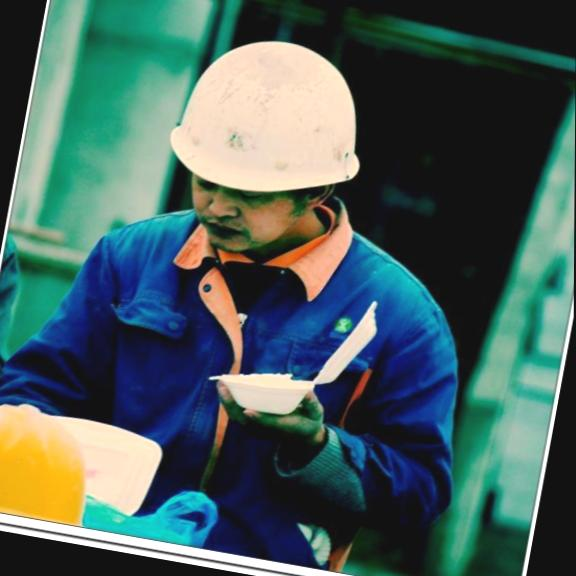no_safety_vest: (35, 212, 469, 576)
